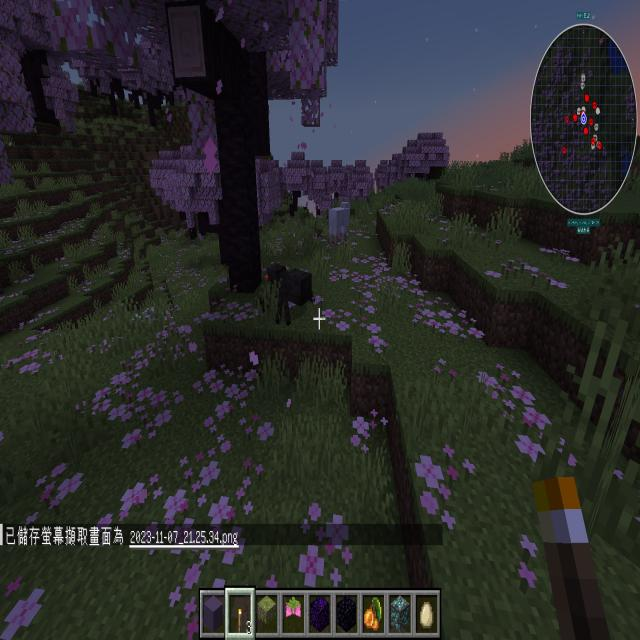Spider: (262, 256, 318, 337)
